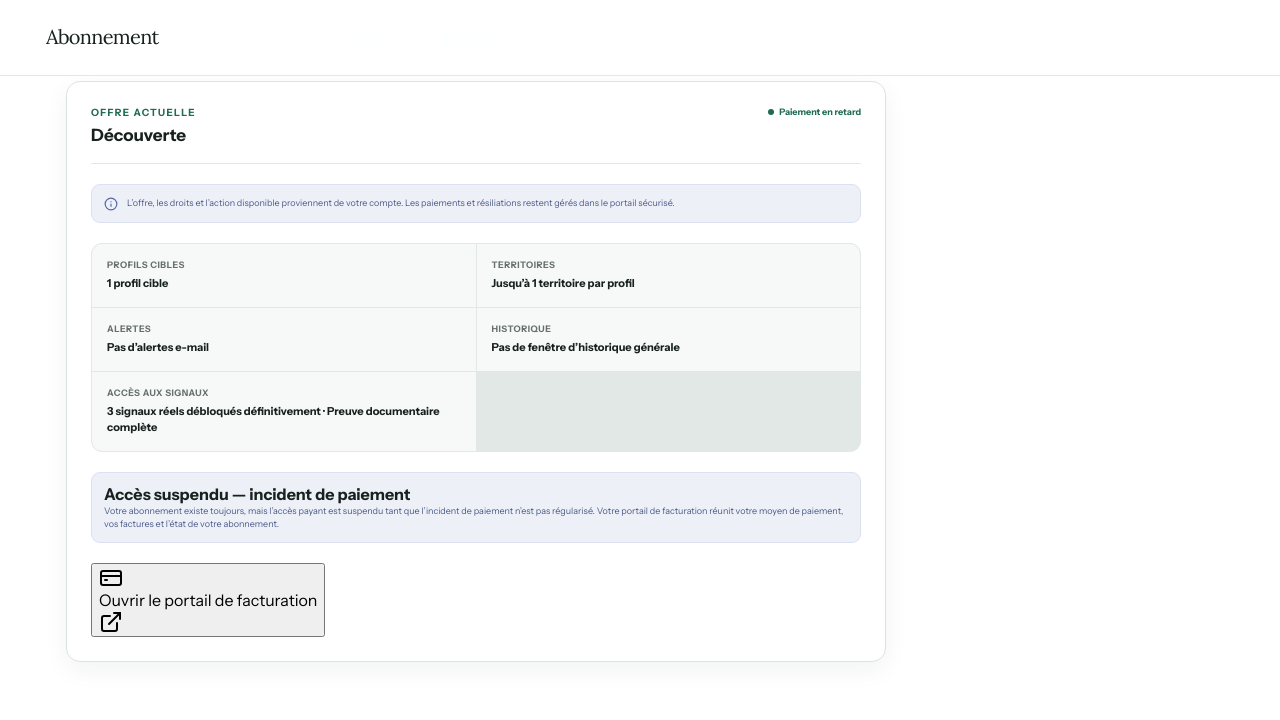
billing_action — recover_payment › ne retombe jamais sur la grille quand le portail échoue
(page scrolled)
Step 1. Click the button "Ouvrir le portail de facturation" → point(208, 600), box [91,562,326,636]
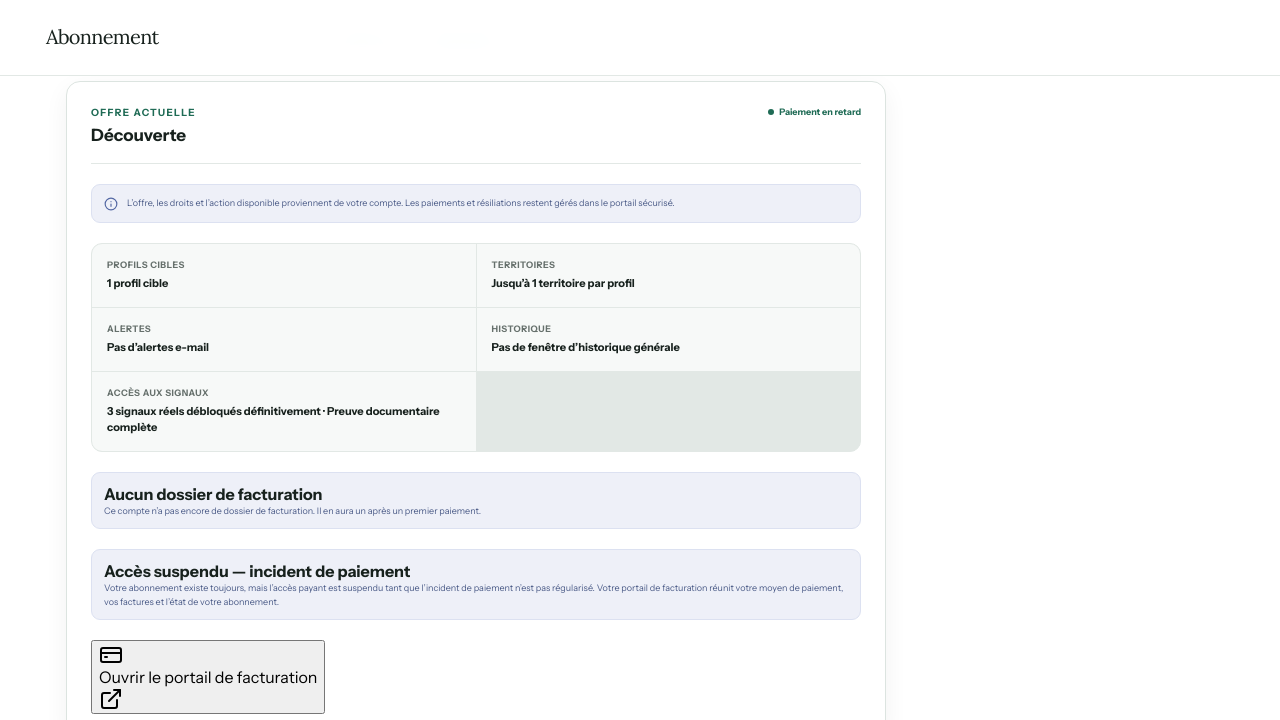
Now the message is shown, box [91,472,861,529]
